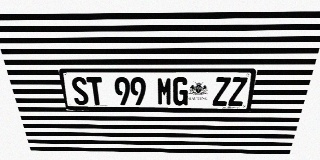9: (114, 77, 131, 105), (130, 77, 146, 105)
G: (173, 77, 189, 106)
M: (157, 77, 172, 105)
S: (70, 77, 90, 105)
T: (86, 77, 105, 105)
Z: (228, 77, 248, 106), (212, 77, 231, 106)
